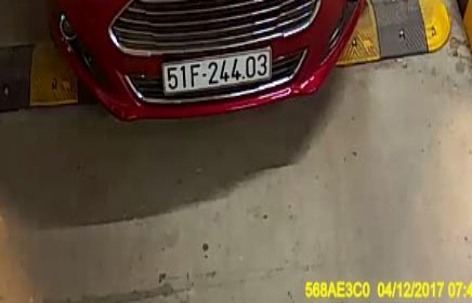plate: (159, 52, 278, 94)
